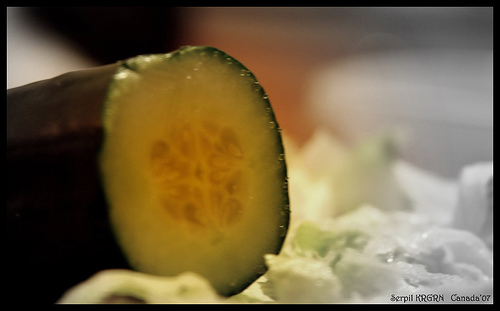cucumber: (5, 45, 291, 300)
